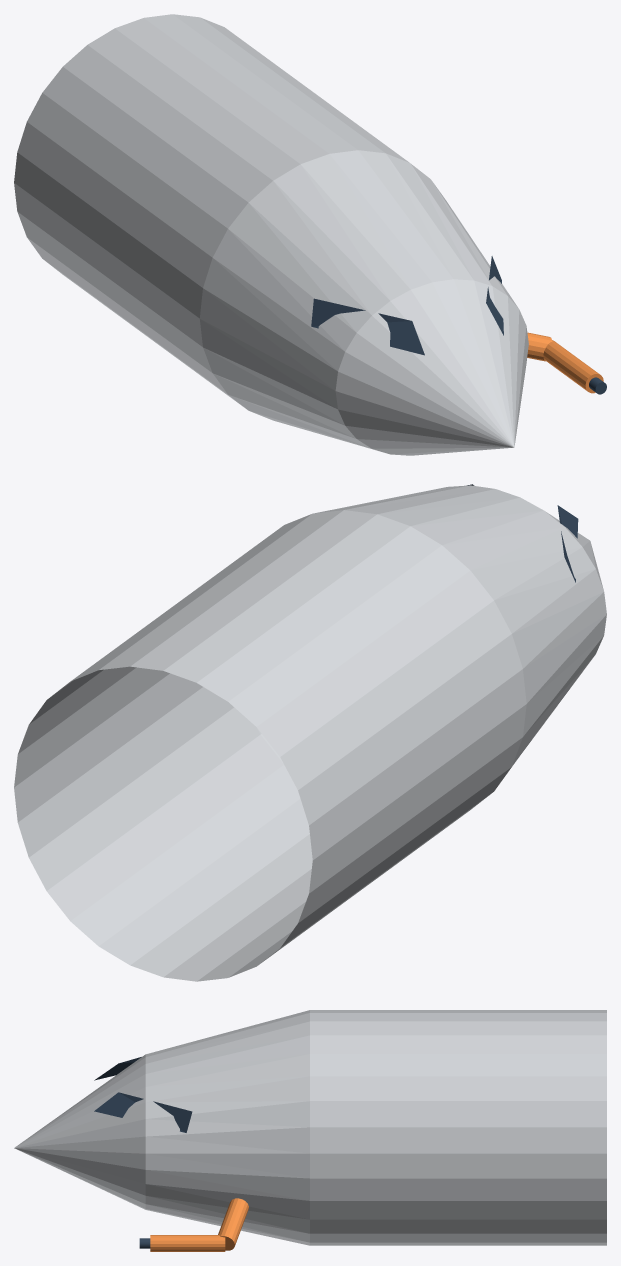
Rendered from pitot.glb.
The picture shows the model from 3 angles, top to bottom: view 1: azimuth 30°, elevation 25°; view 2: azimuth 150°, elevation 25°; view 3: azimuth 270°, elevation 25°; orthographic projection. The views are drawn at different scales.
Size of the model in its own units: 2.39 by 2 by 5.05.
